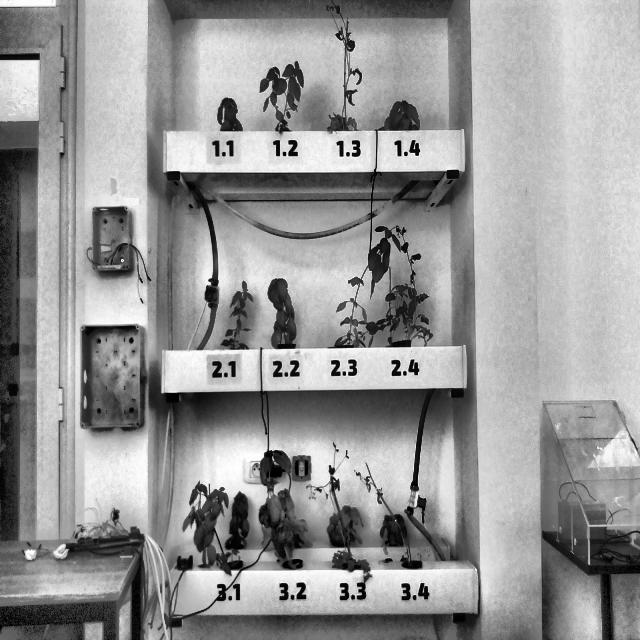plants: (329, 224, 395, 350), (313, 1, 374, 132), (356, 458, 426, 570), (312, 458, 363, 571), (258, 450, 306, 569), (187, 480, 240, 571), (397, 222, 433, 348), (258, 60, 306, 132), (261, 487, 309, 552), (261, 276, 303, 349), (218, 278, 257, 348), (328, 507, 364, 549), (225, 491, 249, 550), (384, 98, 421, 132), (216, 96, 245, 131), (382, 513, 406, 550)
